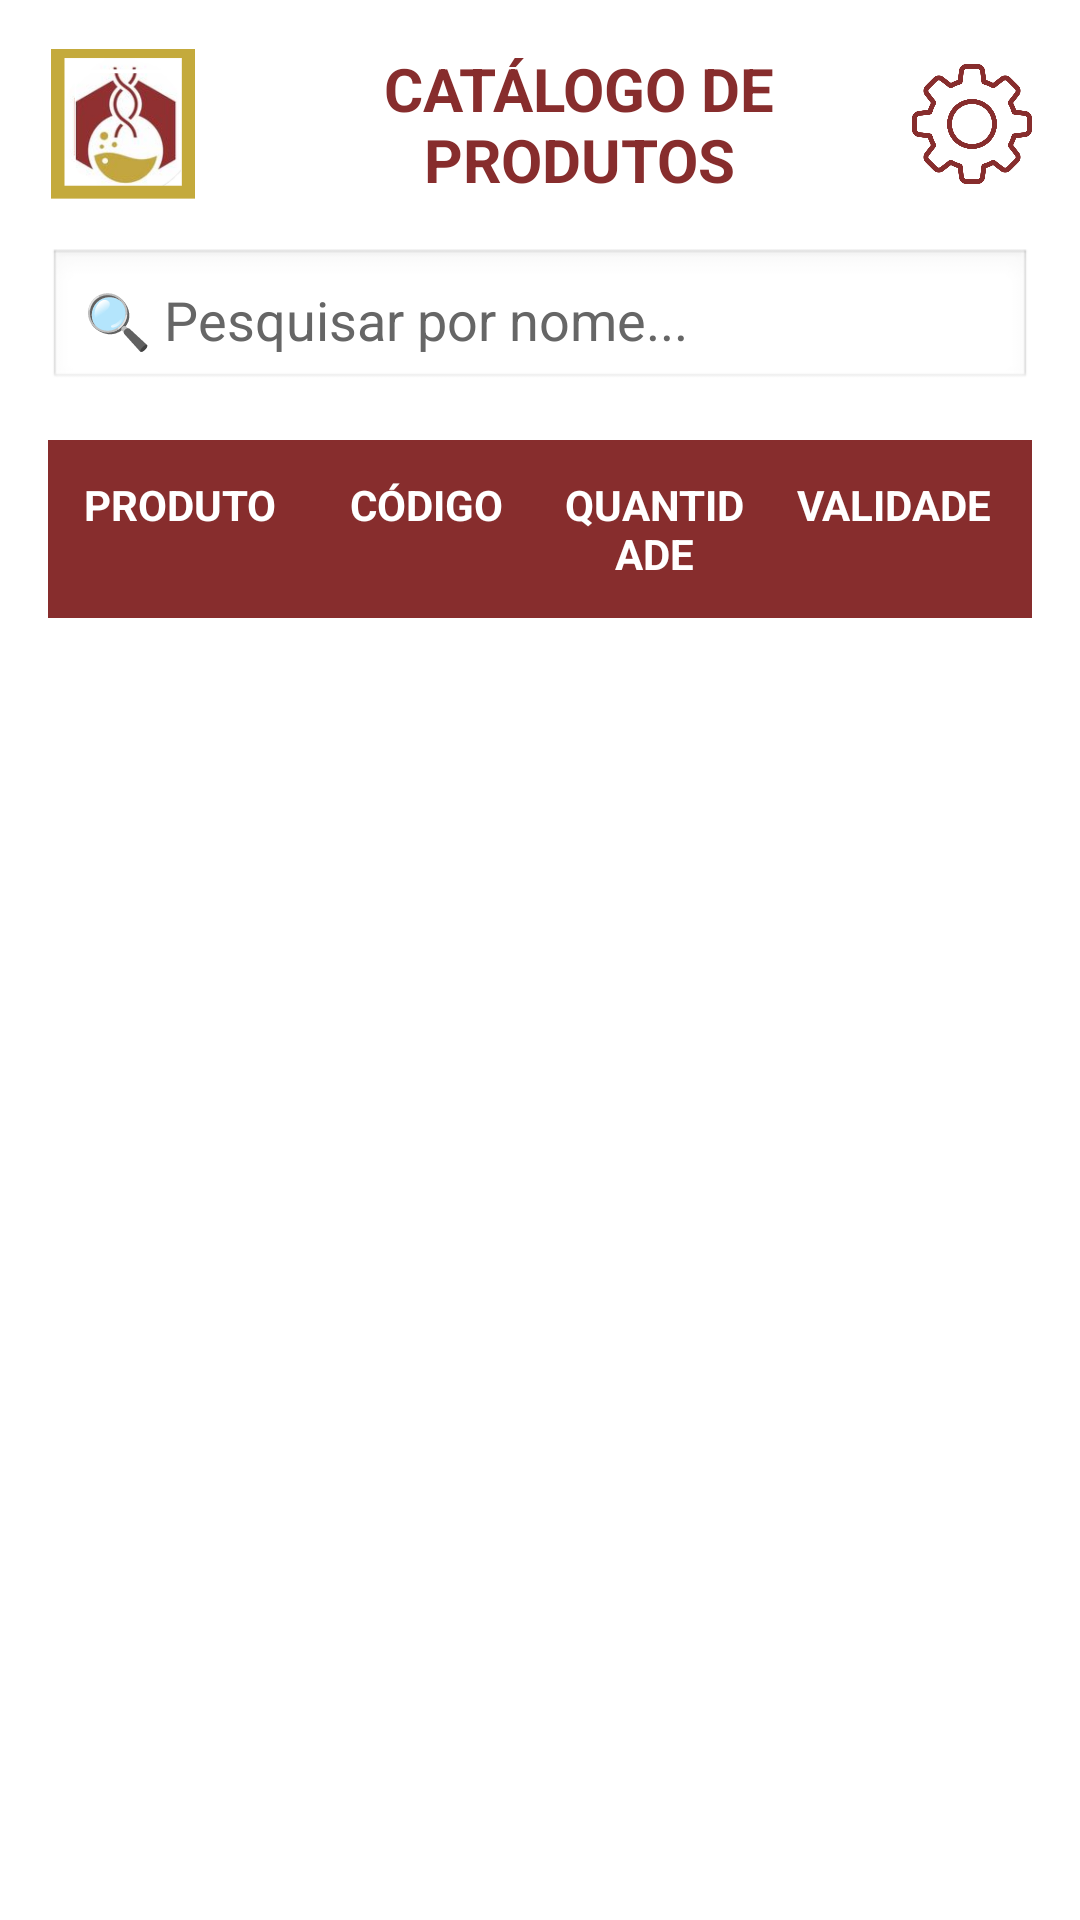

Icons on this 1080 × 1920 Android screen, each with its box as (x1, y1, x2, y2):
config: (912, 64, 1032, 184)
